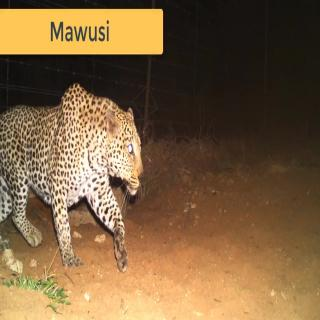Leopard: (0, 78, 148, 286)
